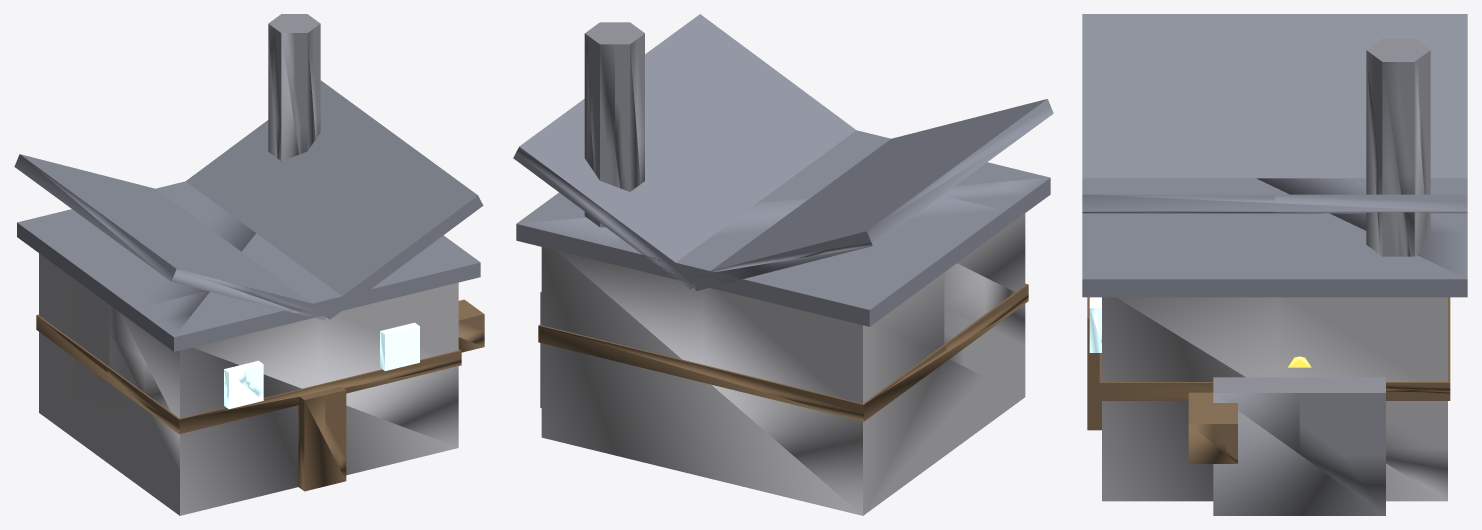
Rendered from blacksmith.glb.
The picture shows the model from 3 angles, left to right: view 1: azimuth 30°, elevation 25°; view 2: azimuth 150°, elevation 25°; view 3: azimuth 270°, elevation 25°; orthographic projection. The views are drawn at different scales.
Parts seen in each view (by area): view 1: BlacksmithWall; view 2: BlacksmithWall; view 3: BlacksmithWall.
Part boxes in pixels (<box>): BlacksmithWall: <box>14,14,484,515</box>; BlacksmithWall: <box>513,14,1053,515</box>; BlacksmithWall: <box>1082,14,1467,515</box>.
Size of the model in its own units: 2.05 by 1.9 by 1.56.
